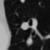node: (28, 16, 37, 28), (20, 21, 30, 31), (25, 36, 34, 46), (20, 1, 25, 4)
